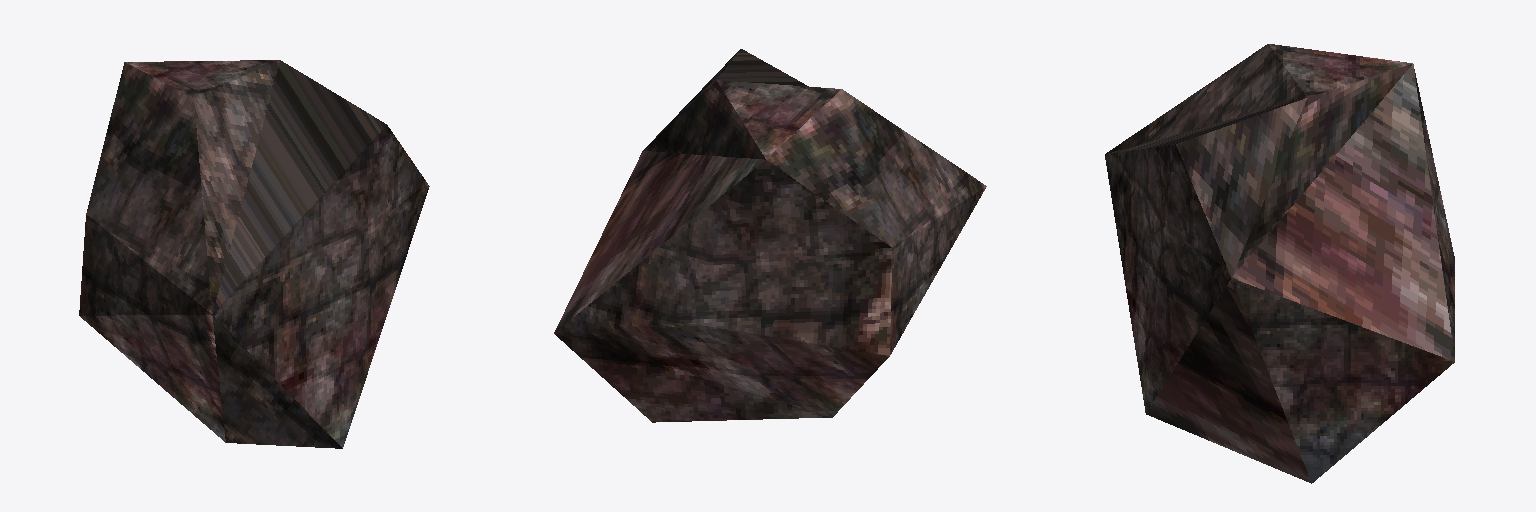
3 renders of one model, left to right at view 1: azimuth 30°, elevation 25°; view 2: azimuth 150°, elevation 25°; view 3: azimuth 270°, elevation 25°, orthographic.
Visible parts, largest first — view 1: Node 0; view 2: Node 0; view 3: Node 0.
Boxes of the visible parts, x1,y1,x2,y2 form: Node 0: [79, 60, 429, 448]; Node 0: [554, 49, 986, 422]; Node 0: [1105, 44, 1454, 483].
Bounding box in the file's own units: 3.78 × 4.33 × 3.84.
Materials: 1 (1 with a texture image).